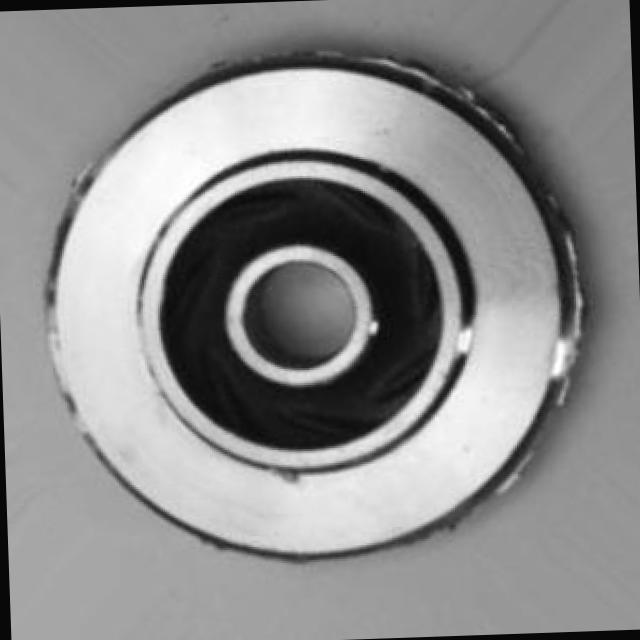Defect: (378, 42, 552, 142)
